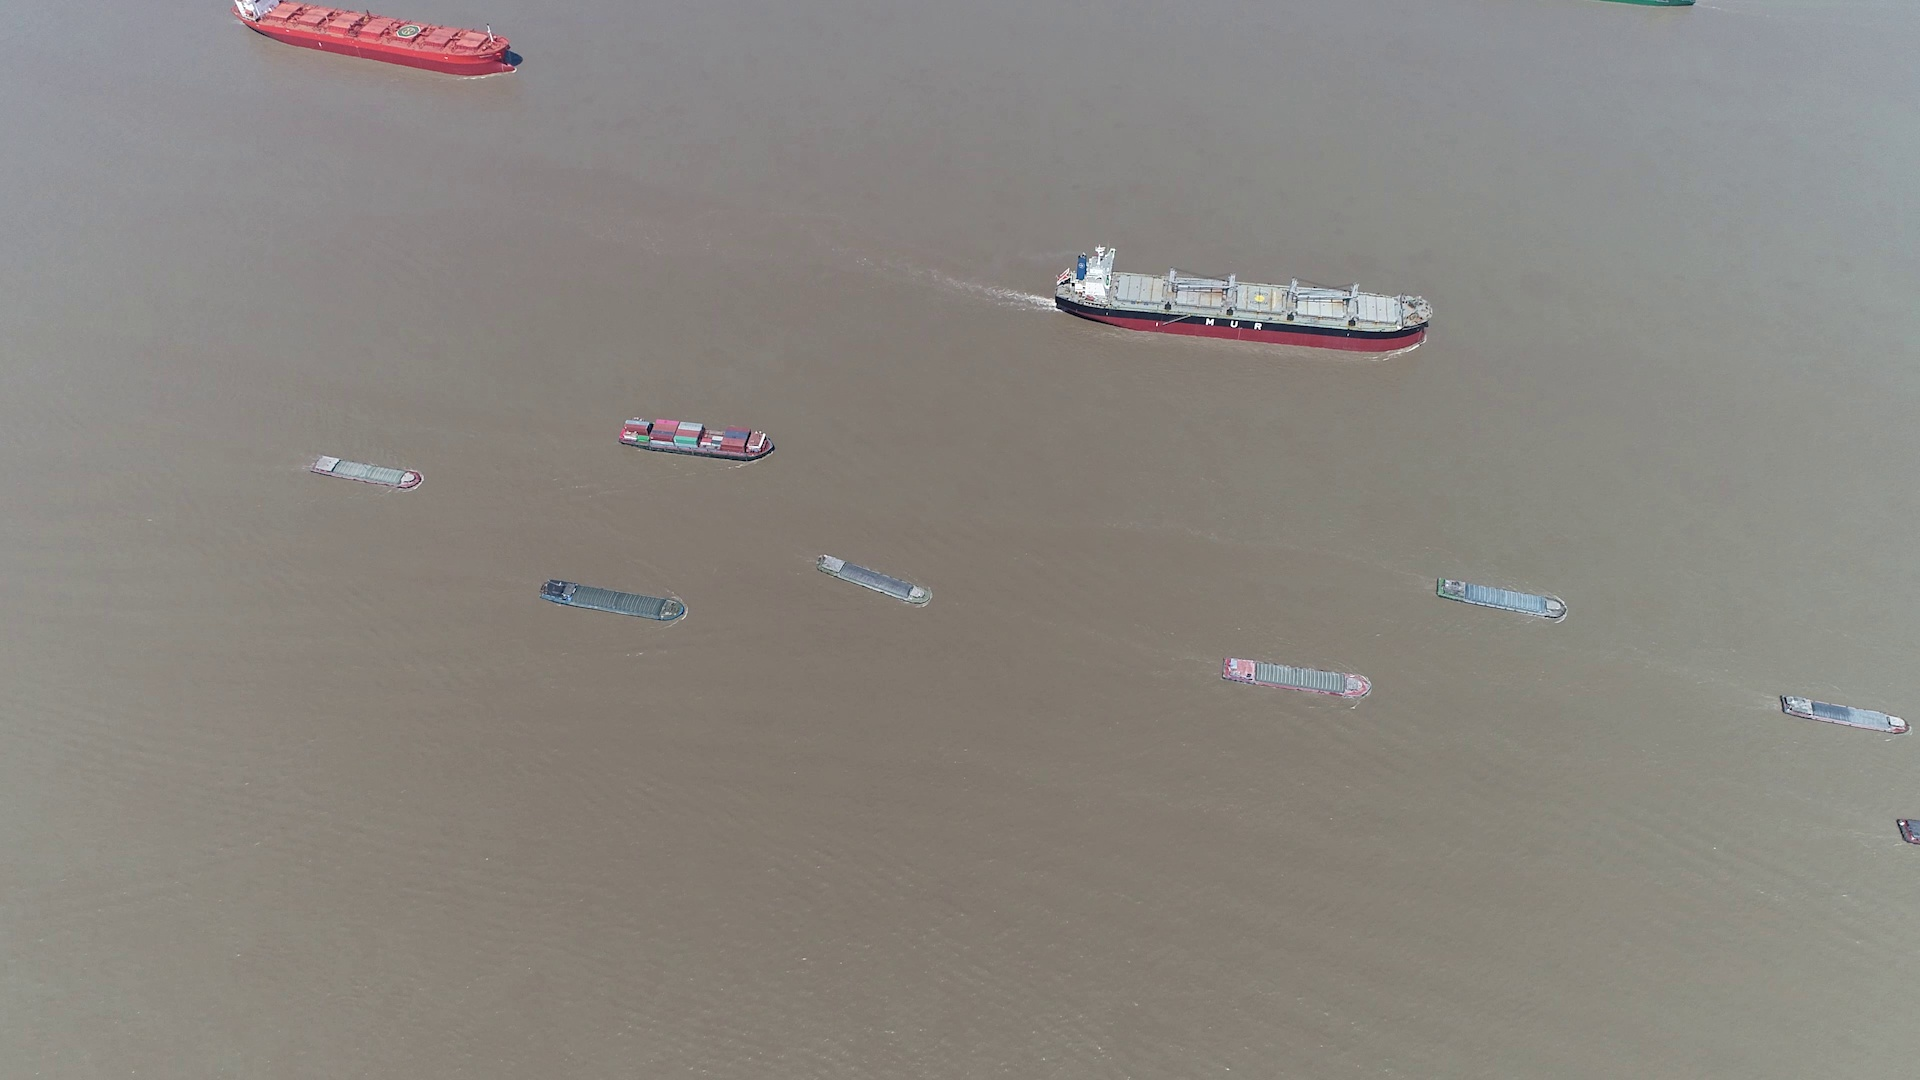ship: (1055, 249, 1435, 351), (233, 0, 521, 74), (616, 418, 775, 462), (541, 578, 688, 622), (1222, 657, 1371, 699), (1437, 576, 1571, 622), (818, 556, 934, 608), (1778, 694, 1908, 735), (307, 454, 421, 489), (1898, 818, 1920, 848), (1610, 0, 1695, 7)
